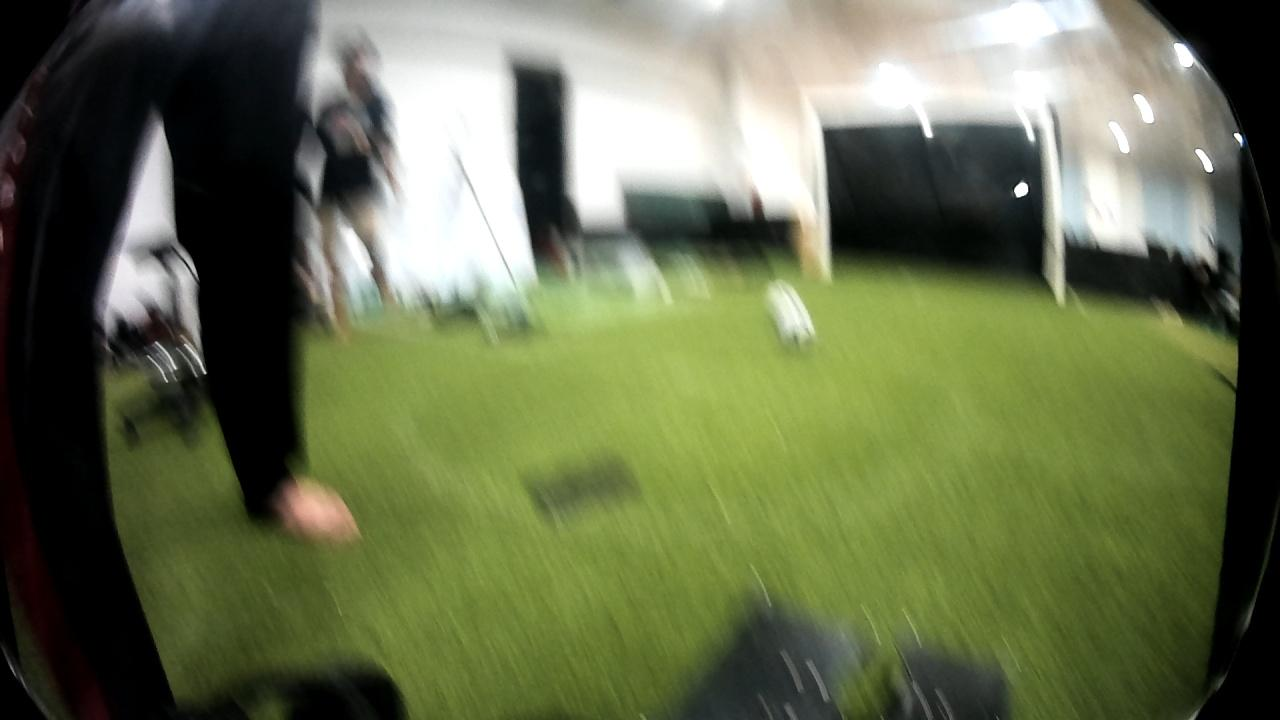ball: (760, 277, 815, 351)
